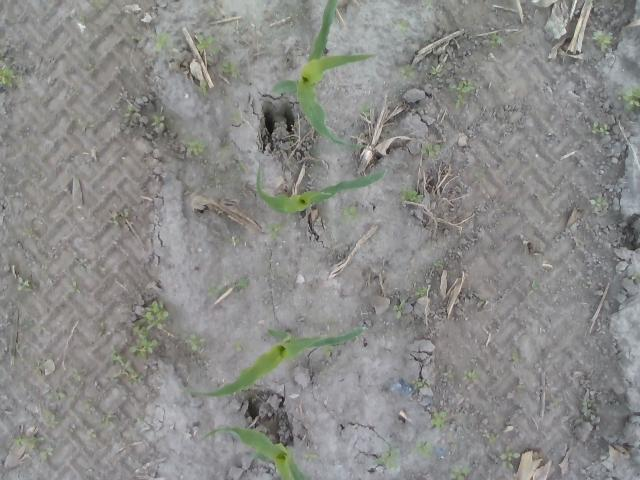Maize: (271, 0, 378, 151), (191, 325, 367, 399), (254, 163, 388, 217), (197, 427, 310, 480)
Weeds: (128, 300, 170, 362), (110, 343, 141, 382), (448, 79, 481, 105), (194, 31, 224, 56), (178, 138, 210, 160), (374, 447, 401, 471), (212, 58, 240, 80), (183, 332, 209, 354), (498, 446, 520, 470), (622, 83, 640, 112), (591, 30, 616, 50), (544, 15, 564, 40), (17, 319, 49, 334), (399, 184, 423, 203), (151, 31, 173, 51), (448, 463, 473, 480), (0, 62, 16, 88), (415, 438, 434, 459), (40, 407, 60, 426), (15, 433, 37, 450), (225, 276, 251, 290), (416, 144, 446, 156), (398, 63, 418, 81), (74, 114, 96, 130), (266, 222, 284, 241), (486, 30, 504, 49), (432, 409, 449, 429), (340, 208, 360, 224), (351, 103, 371, 119), (592, 119, 610, 136), (463, 368, 482, 384), (111, 210, 131, 224), (16, 276, 32, 292), (65, 279, 81, 295), (304, 447, 320, 463), (124, 104, 142, 118), (392, 303, 406, 321), (150, 112, 165, 128), (410, 377, 431, 388), (97, 414, 113, 428), (528, 280, 544, 294), (195, 79, 208, 96), (580, 398, 592, 416), (128, 34, 145, 46), (588, 197, 608, 207), (224, 234, 239, 247), (31, 360, 44, 374), (46, 392, 66, 401), (238, 31, 248, 49), (577, 280, 594, 290), (208, 287, 225, 297), (40, 447, 53, 460), (86, 428, 98, 442), (443, 368, 457, 379), (133, 416, 147, 427), (400, 19, 410, 34), (93, 0, 109, 9), (512, 352, 524, 364), (430, 64, 442, 76), (22, 227, 33, 239), (82, 398, 94, 409), (486, 432, 497, 444), (321, 347, 334, 357), (414, 287, 428, 296), (79, 257, 88, 271), (231, 110, 241, 122), (552, 395, 560, 409), (72, 369, 80, 382), (239, 162, 249, 172), (631, 271, 640, 282), (432, 256, 441, 267), (235, 340, 242, 352), (424, 0, 433, 9), (208, 7, 216, 17), (78, 15, 86, 25), (516, 384, 526, 392), (399, 88, 408, 94)
